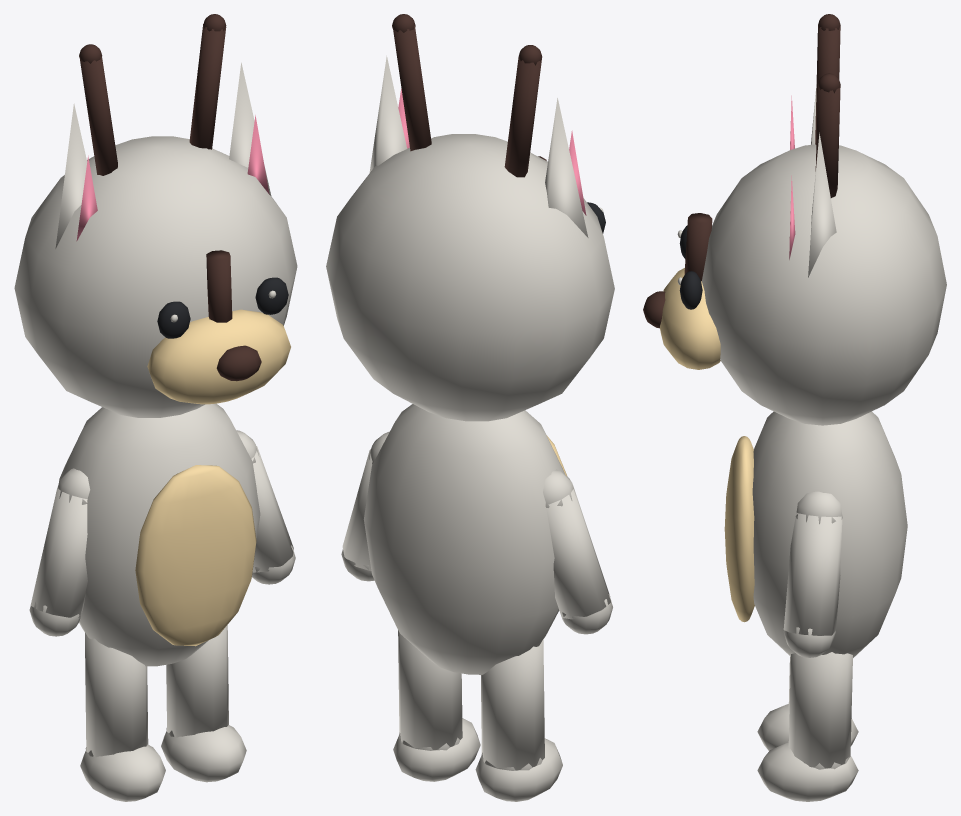
Rendered from scimitar-oryx.glb.
3 views of the same model, side by side, from view 1: azimuth 30°, elevation 25°; view 2: azimuth 150°, elevation 25°; view 3: azimuth 270°, elevation 25° (orthographic). The views are drawn at different scales.
Visible parts, largest first — view 1: Asset.scimitar-oryx; view 2: Asset.scimitar-oryx; view 3: Asset.scimitar-oryx.
Boxes of the visible parts, x1=… form: Asset.scimitar-oryx: x1=14, y1=14, x2=297, y2=801; Asset.scimitar-oryx: x1=326, y1=14, x2=614, y2=801; Asset.scimitar-oryx: x1=643, y1=14, x2=946, y2=801.
Size of the model in its own units: 1.8 by 4.95 by 1.86.
